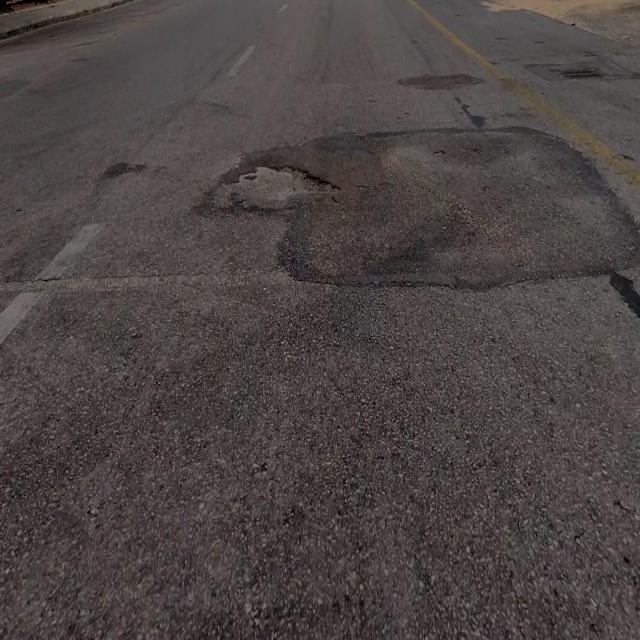Potholes: (240, 161, 334, 202)
